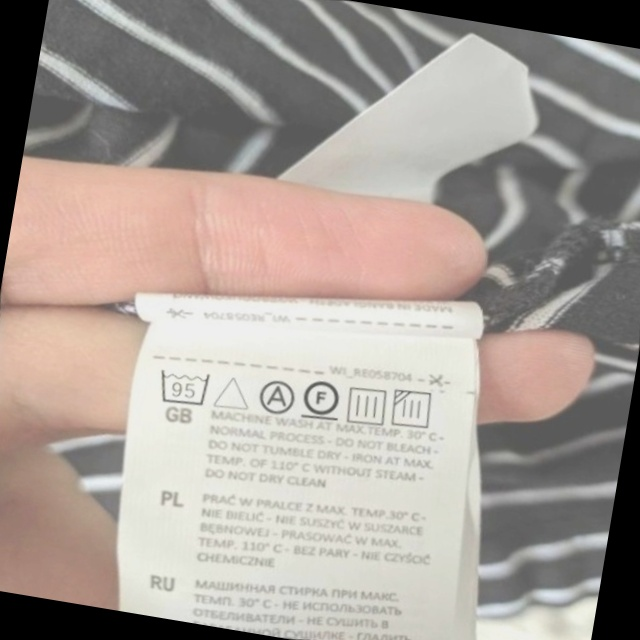95C: (152, 359, 218, 414)
bleach: (209, 366, 255, 417)
drip_dry: (339, 378, 395, 432)
drip_dry_in_shade: (386, 381, 443, 438)
dry_clean: (252, 373, 300, 420)
dry_clean_petrol_only: (296, 370, 348, 427)
